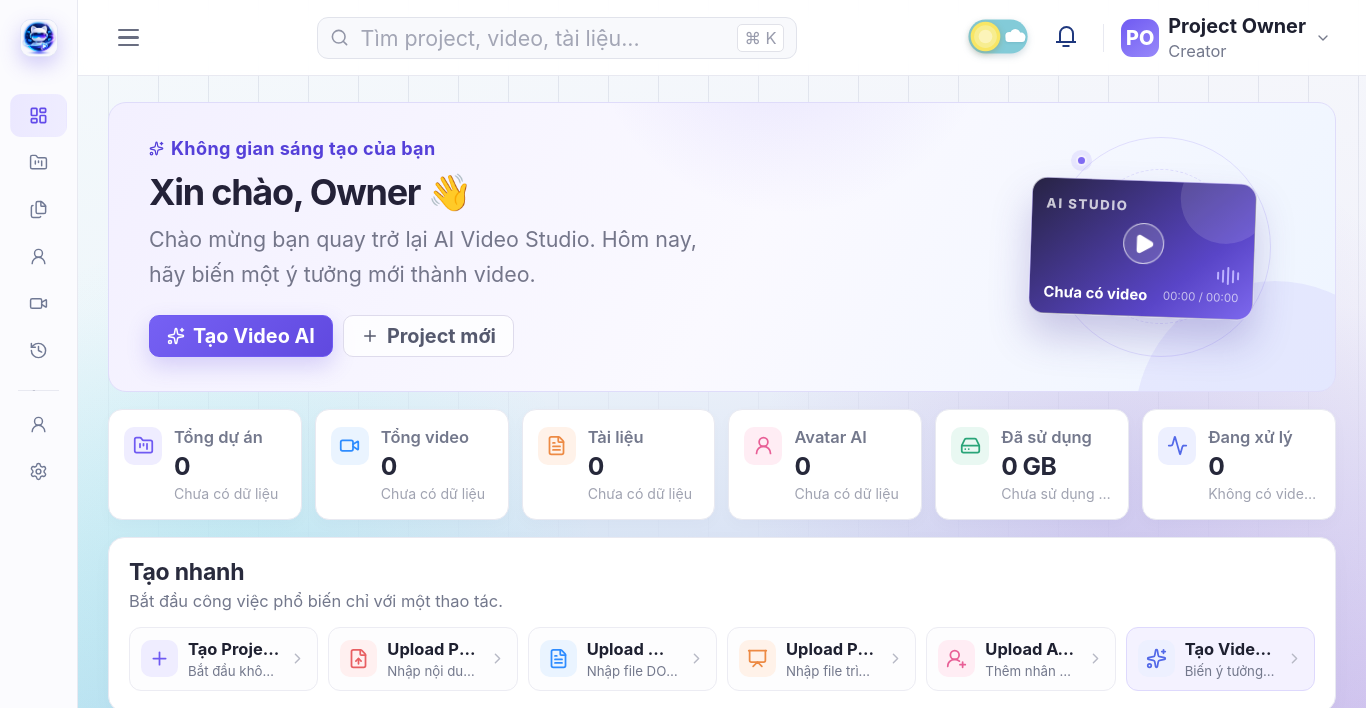
Test: opens the create project form and updates its live preview
Check: the button "PO Project Owner Creator" is shown, box [1118,11,1336,64]
Click the button named "dự án". click: [38, 162]
box: [10,141,67,184]
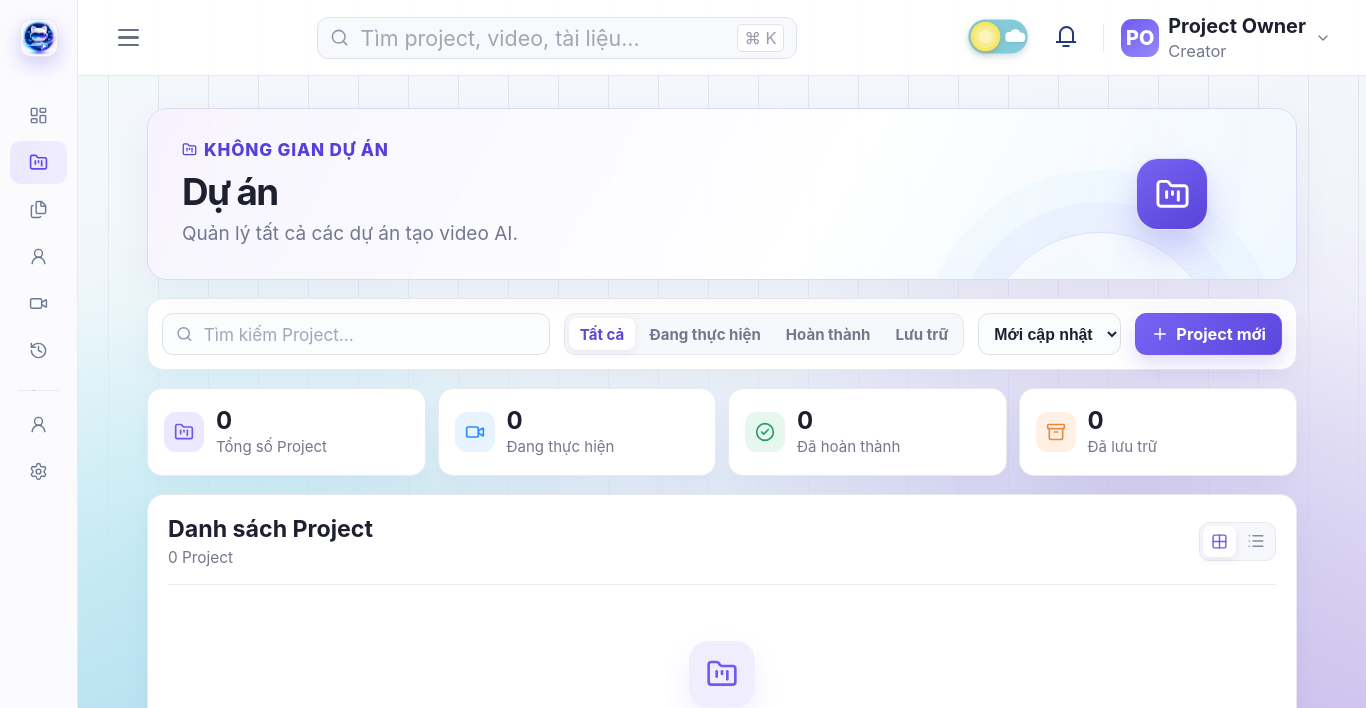
Click the button "Project mới". click: [1209, 334]
box: [1135,313,1282,355]
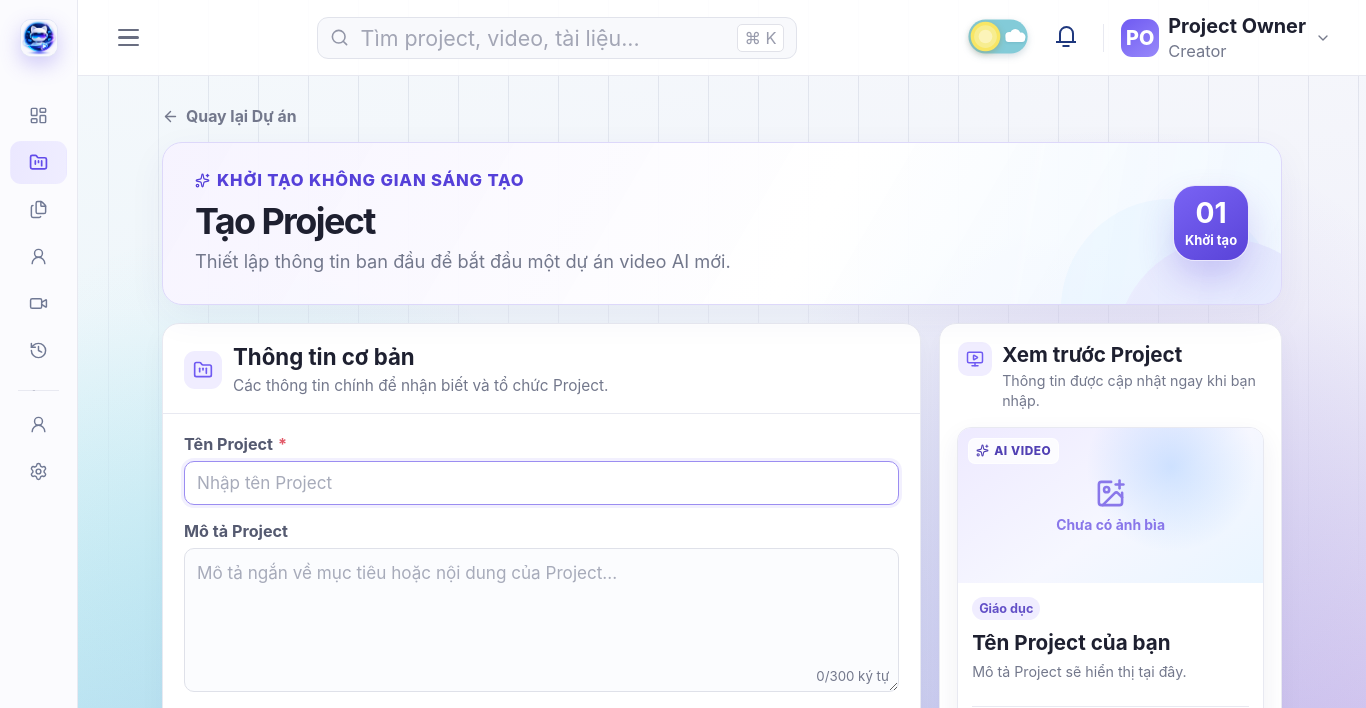
Check: the heading "Tạo Project" is shown, box [195,198,375,242]
Type "Khóa học AI" into the field labelled "Tên Project *". click: [542, 483]
box: [184,461,899,505]
(page scrolled)
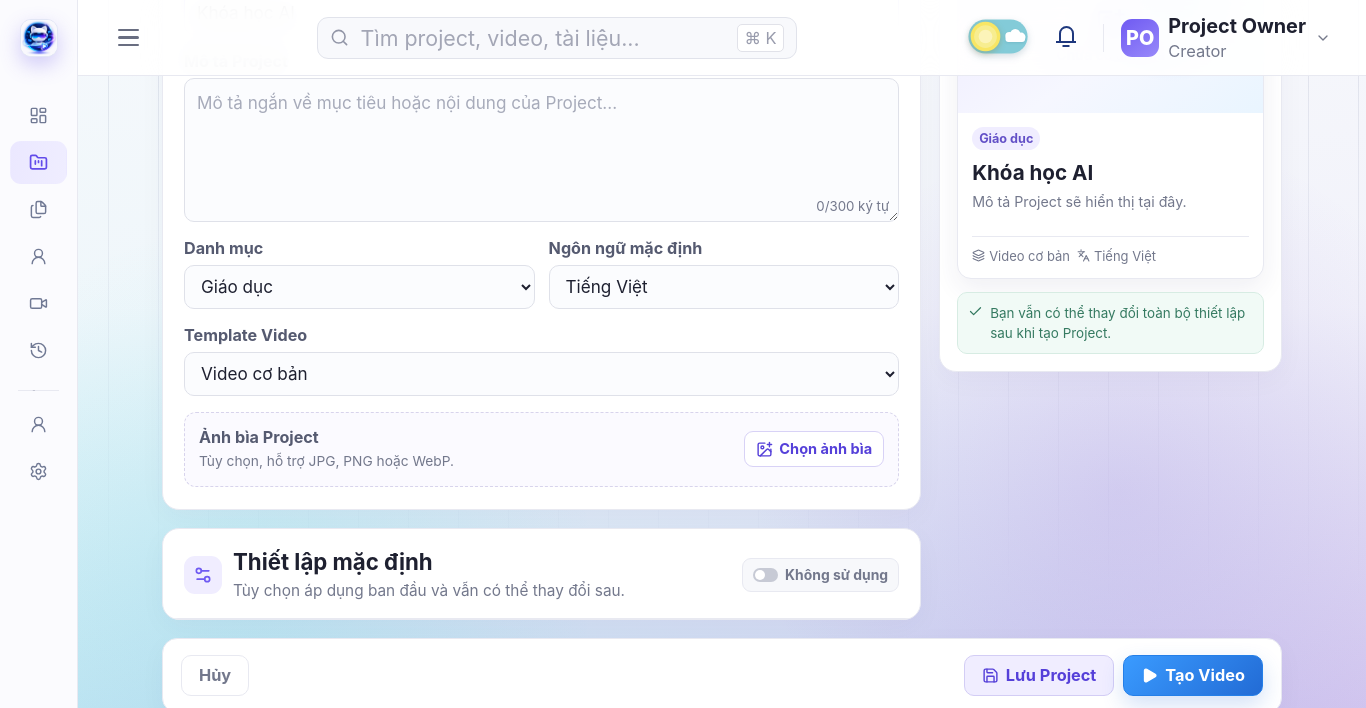
Check: the heading "Khóa học AI" is shown, box [972,160,1093,185]
Click the switch labelled "Không sử dụng". click: [821, 575]
box: [742,558,899,592]
(page scrolled)
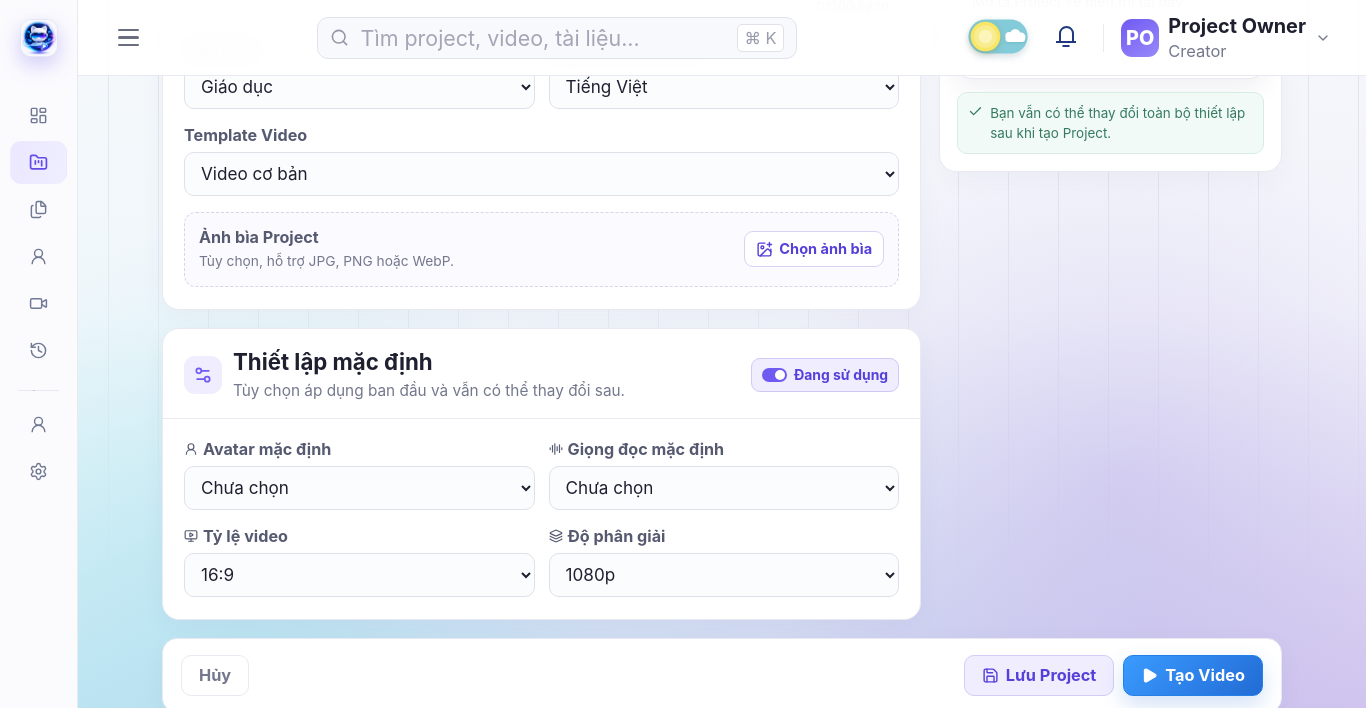
Check: the button "Tạo Video" is shown, box [1123,655,1263,696]
Check: the button "Lưu Project" is shown, box [964,655,1114,696]
Check: the dropdown labelled "Tỷ lệ video" is shown, box [184,553,535,597]
Click the button "Hủy". click: [215, 675]
box: [181,655,249,696]
(page scrolled)
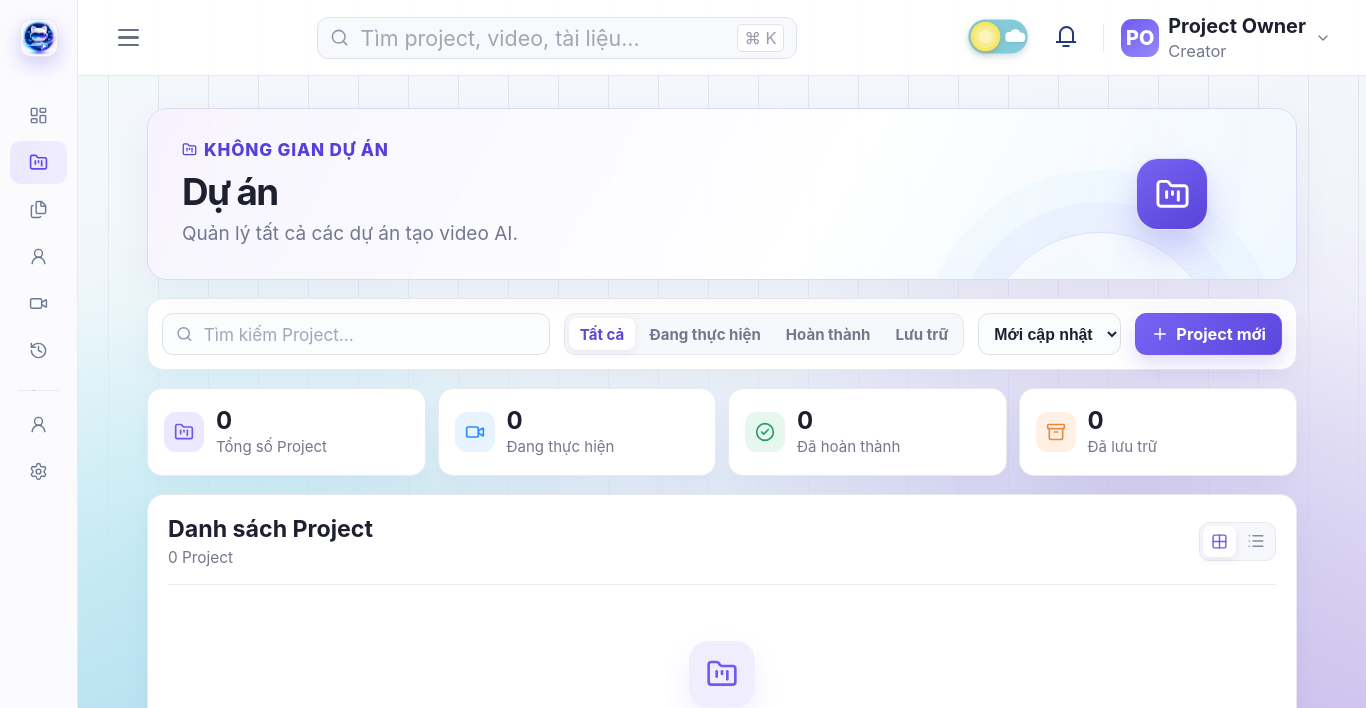
Check: the heading "Dự án" is shown, box [182,169,278,214]
